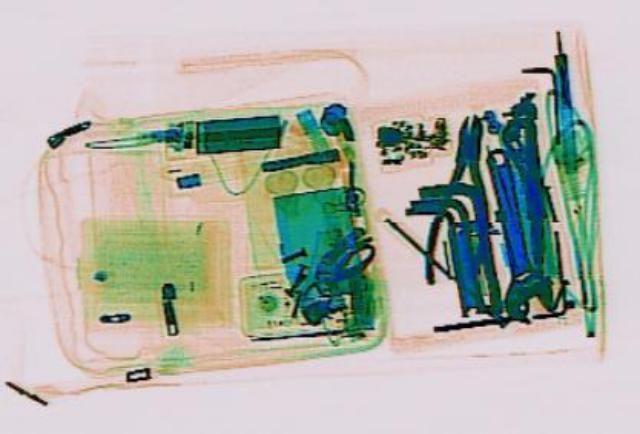Pliers: (420, 111, 496, 283)
Wrench: (468, 143, 558, 319)
